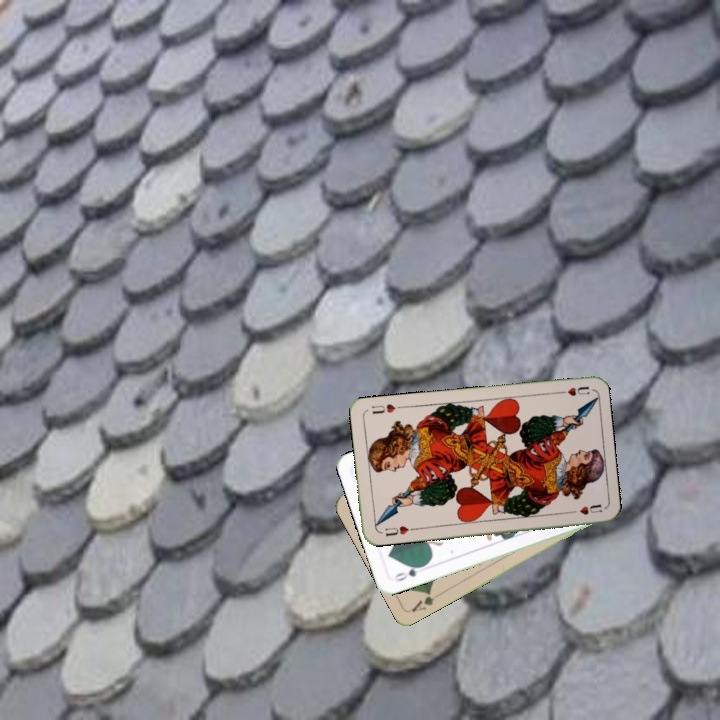GA: (407, 587, 437, 615)
GO: (389, 561, 428, 584)
HU: (552, 382, 592, 399), (381, 522, 417, 539)
